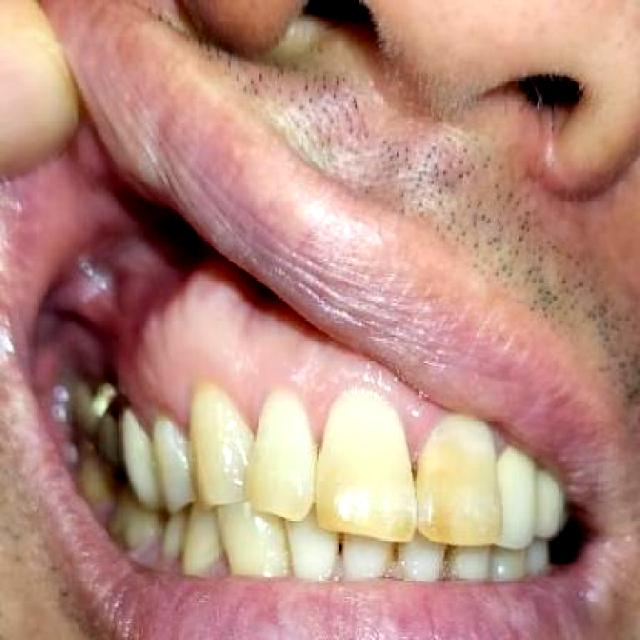Plaque: (153, 410, 189, 438)
